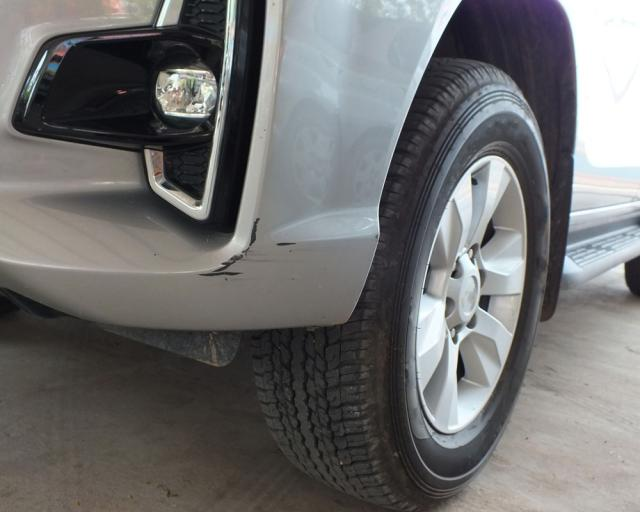scratch: (198, 217, 298, 284)
